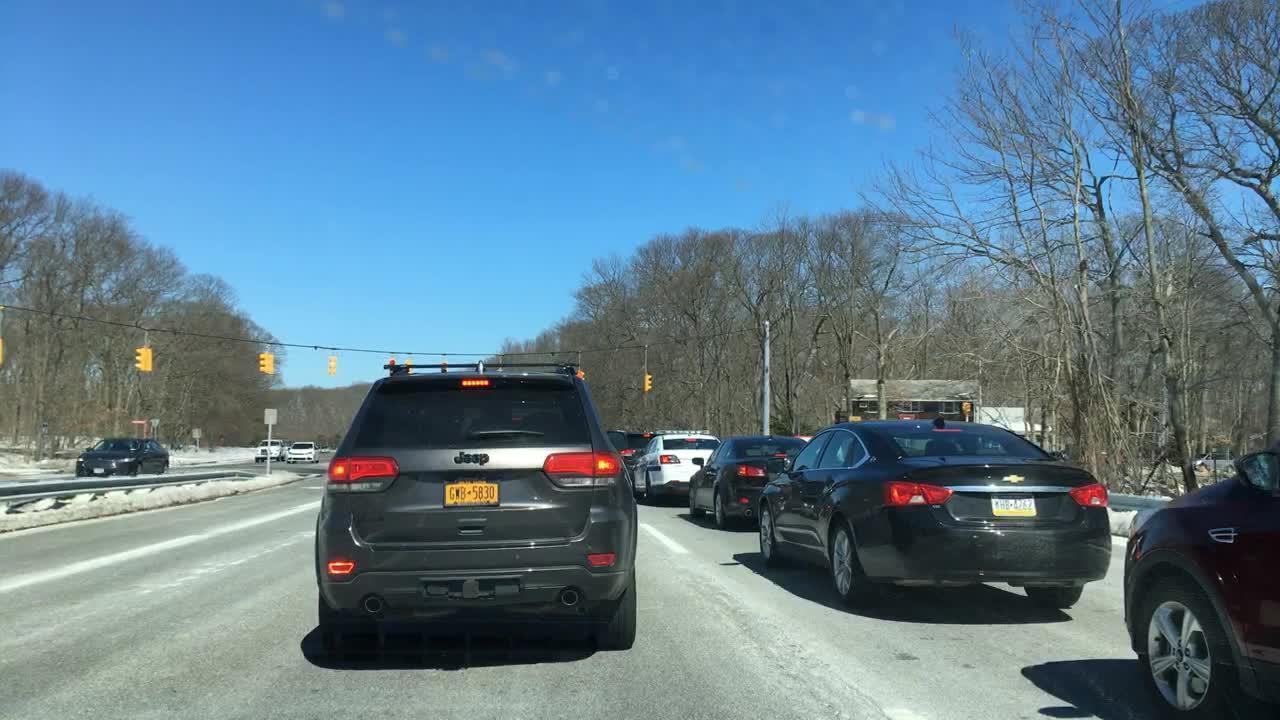chevrolet: (990, 462, 1050, 495)
jeep: (444, 448, 504, 477)
